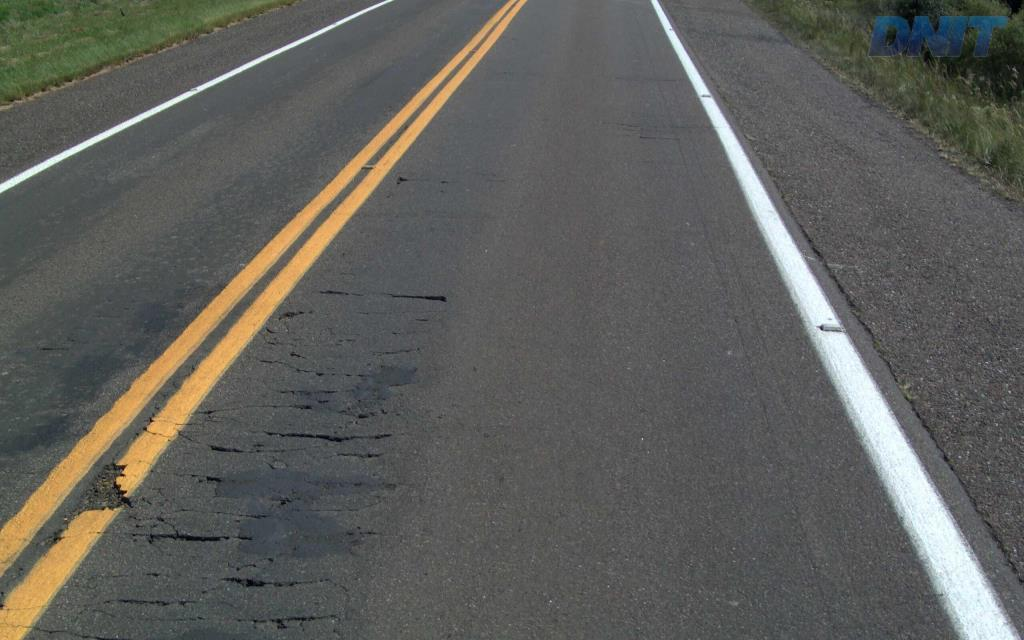crack: (130, 523, 230, 544), (263, 430, 392, 443), (268, 614, 340, 631), (220, 574, 312, 587)
